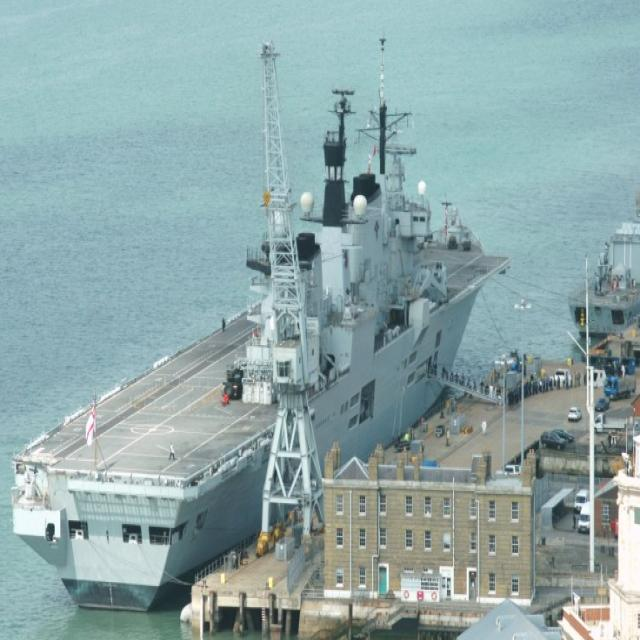Portanaves: (4, 29, 517, 619)
